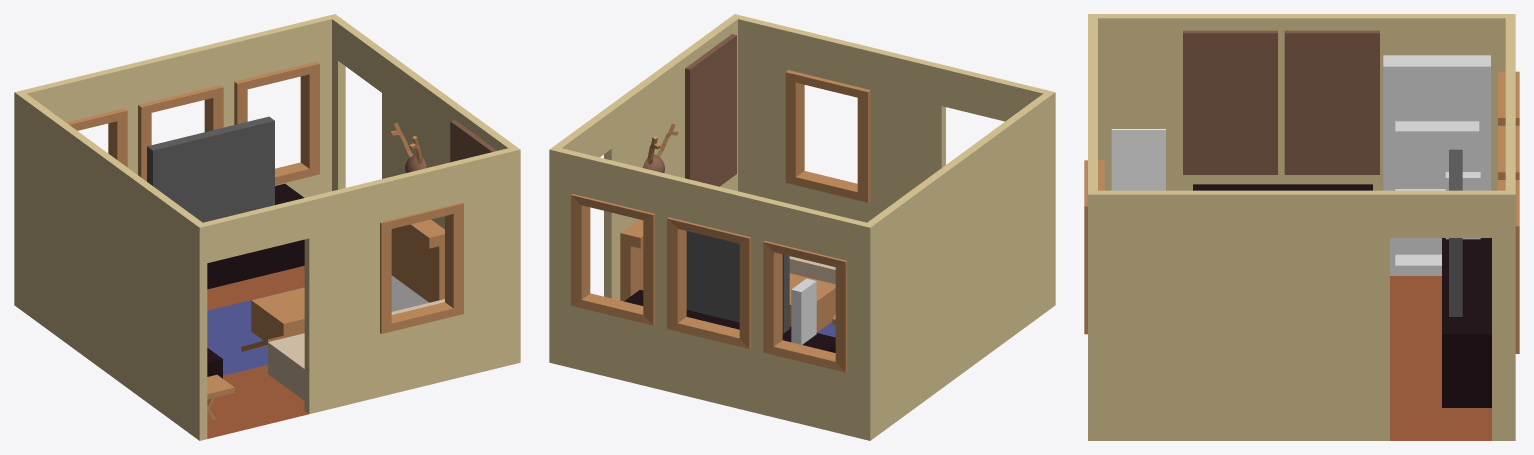
Rendered from asset-3.glb.
The picture shows the model from 3 angles, left to right: view 1: azimuth 30°, elevation 25°; view 2: azimuth 150°, elevation 25°; view 3: azimuth 270°, elevation 25°; orthographic projection. The views are drawn at different scales.
Parts seen in each view (by area): view 1: Cube.020, Cube.002, Cube.003, Cube.019, Cube.010, Plane, Cube.001, Cube.006, Cube.008, Cube.013, Cube.009, Cube.011; view 2: Cube.020, Cube.003, Cube.013, Cube.019, Cube.002, Cube.010, Cube.004, Cube.006, Cube.001, Cube.008; view 3: Cube.020, Cube.005, Cube.012, Cube.017, Cube.001, the_sexiness, Cube.003, Cube.002, Cube.022, Cube.007, Cube.019, Cube.004.
Boxes of the visible parts, x1,y1,x2,y2 form: Cube.020: [14, 14, 520, 440]; Cube.002: [147, 116, 274, 222]; Cube.003: [66, 61, 319, 185]; Cube.019: [380, 202, 463, 333]; Cube.010: [391, 219, 444, 302]; Plane: [207, 287, 304, 375]; Cube.001: [207, 183, 304, 289]; Cube.006: [251, 287, 304, 340]; Cube.008: [268, 299, 444, 400]; Cube.013: [450, 120, 496, 162]; Cube.009: [391, 275, 428, 311]; Cube.011: [207, 374, 234, 399]; Cube.020: [549, 14, 1055, 440]; Cube.003: [571, 194, 847, 372]; Cube.013: [685, 34, 736, 186]; Cube.019: [785, 70, 870, 202]; Cube.002: [686, 231, 789, 333]; Cube.010: [620, 219, 643, 301]; Cube.004: [791, 278, 816, 344]; Cube.006: [789, 273, 835, 332]; Cube.001: [624, 290, 835, 352]; Cube.008: [789, 256, 835, 284]; Cube.020: [1088, 14, 1515, 440]; Cube.005: [1383, 55, 1490, 275]; Cube.012: [1284, 30, 1379, 174]; Cube.017: [1183, 30, 1277, 174]; Cube.001: [1442, 238, 1491, 407]; the_sexiness: [1111, 129, 1165, 190]; Cube.003: [1498, 71, 1519, 353]; Cube.002: [1449, 149, 1462, 316]; Cube.022: [1395, 121, 1479, 135]; Cube.007: [1193, 184, 1372, 190]; Cube.019: [1084, 160, 1104, 334]; Cube.004: [1445, 172, 1480, 239].
Size of the model in its own units: 31.5 by 20.16 by 32.03.
